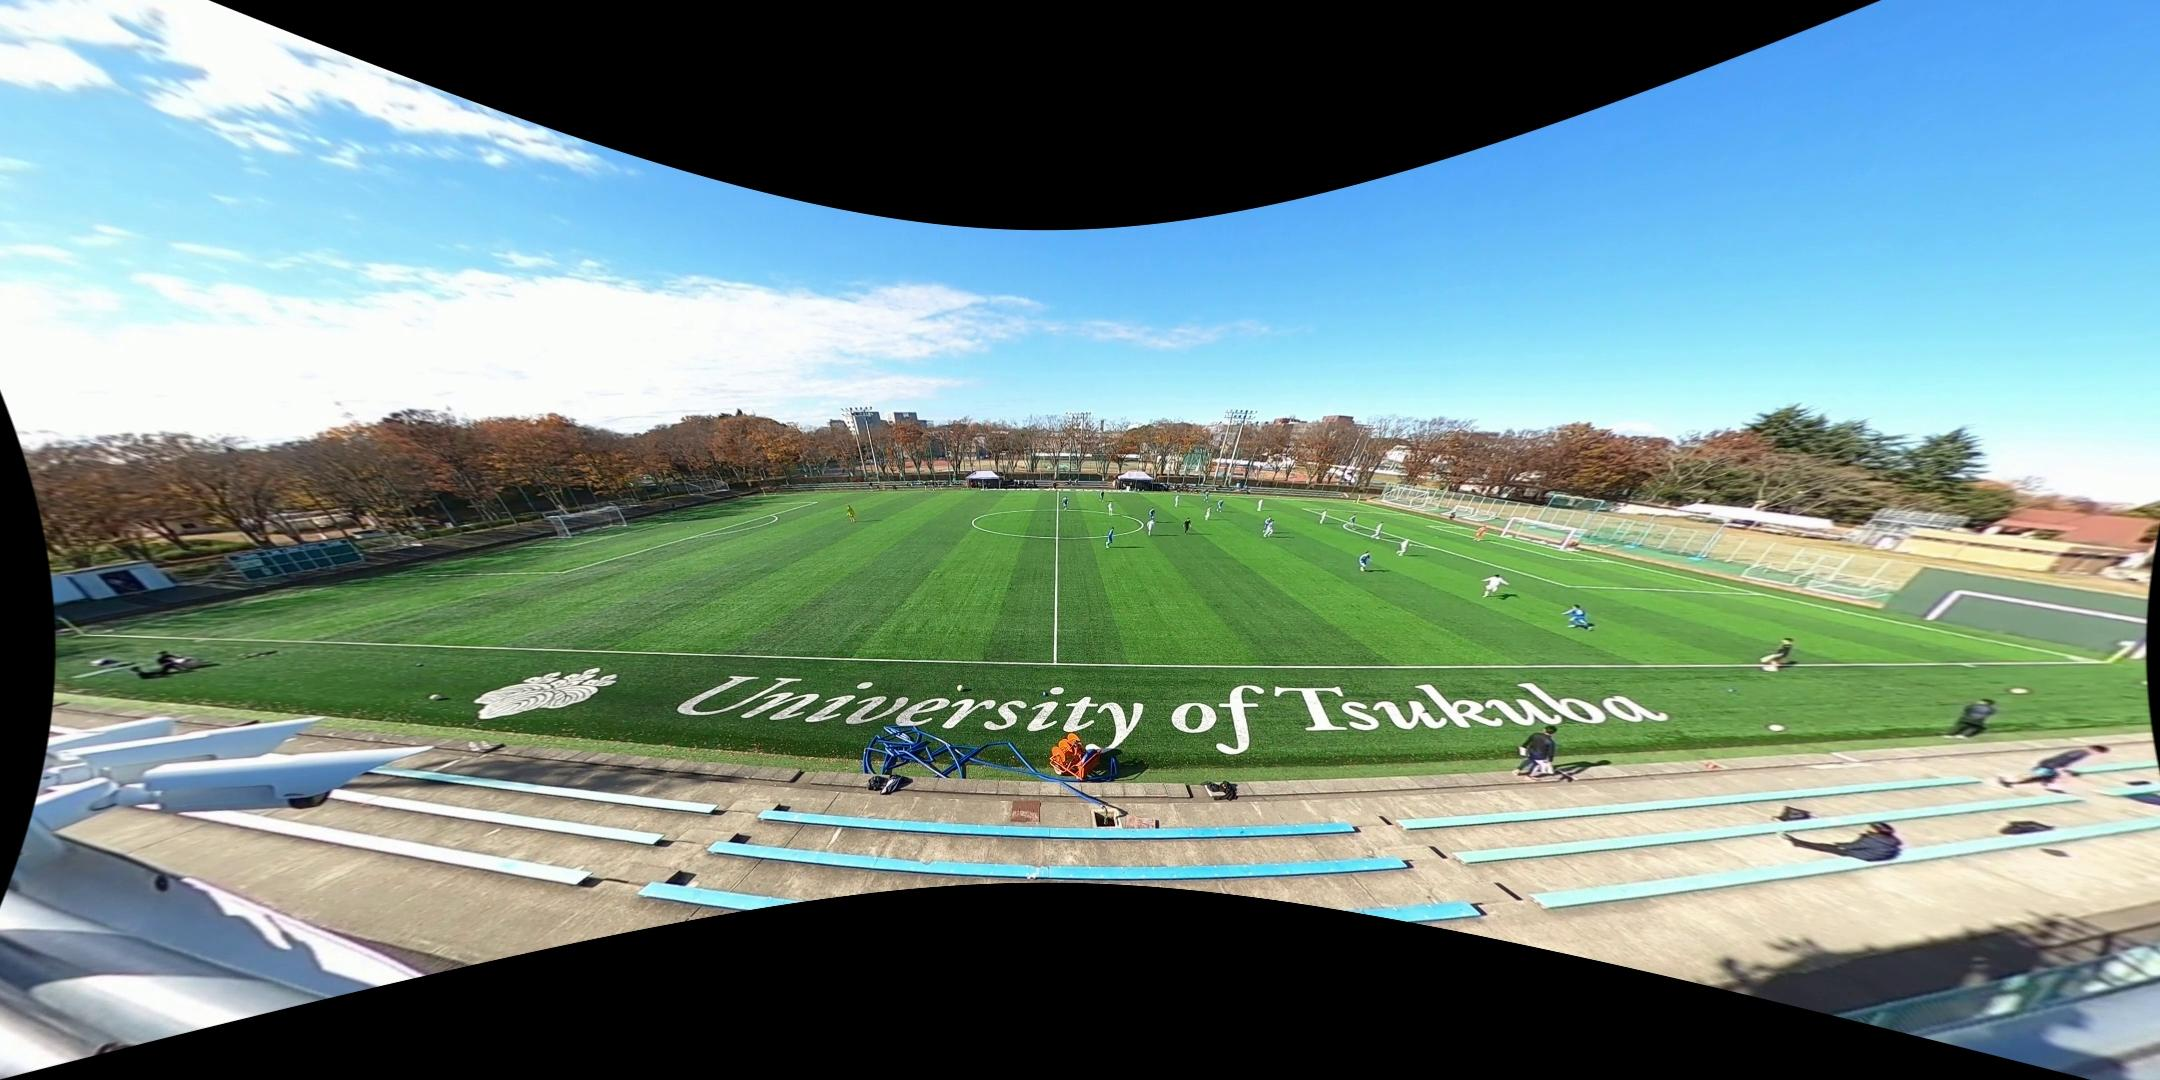person: (1762, 636, 1795, 670), (1561, 604, 1595, 630), (1479, 573, 1510, 598), (1397, 537, 1412, 556), (1358, 551, 1371, 571), (1104, 527, 1115, 549), (1472, 526, 1487, 541), (1371, 522, 1385, 538), (1263, 520, 1275, 538), (1182, 517, 1192, 535), (847, 504, 856, 522), (1347, 513, 1356, 531), (1262, 517, 1272, 532), (1148, 506, 1156, 524), (1319, 509, 1327, 525), (1205, 506, 1212, 521), (1147, 519, 1153, 536), (1107, 502, 1114, 516), (1062, 495, 1068, 511), (1257, 498, 1264, 511), (1203, 490, 1209, 502), (1098, 490, 1104, 501), (1218, 500, 1224, 511), (1174, 494, 1179, 507)
sports ball: (954, 682, 967, 694), (430, 692, 441, 703), (1485, 585, 1492, 590)
